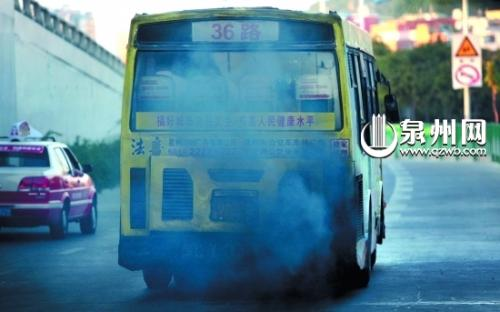smoke: (148, 169, 339, 297)
